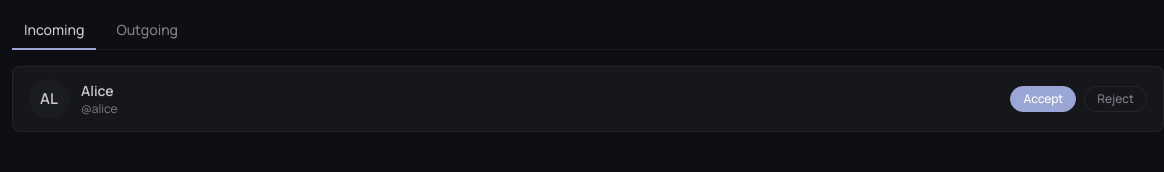
RequestsInbox › switches to the outgoing tab and shows a Cancel action
Check: the text "Alice" is shown, box x1=81 y1=81 x2=118 y2=101
Click the tab "Outgoing" at point(147, 31), box x1=104 y1=12 x2=190 y2=50
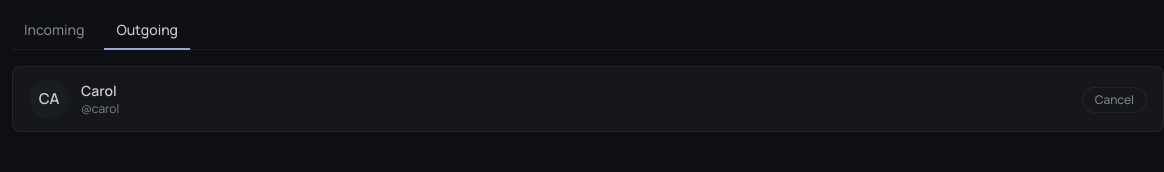
Check: the text "Carol" is shown, box x1=81 y1=81 x2=119 y2=101
Check: the button "Cancel" is shown, box x1=1082 y1=86 x2=1147 y2=112
